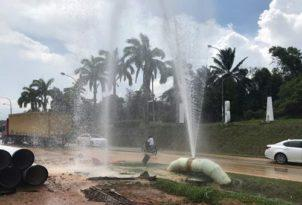pipe burst: (95, 0, 211, 161)
